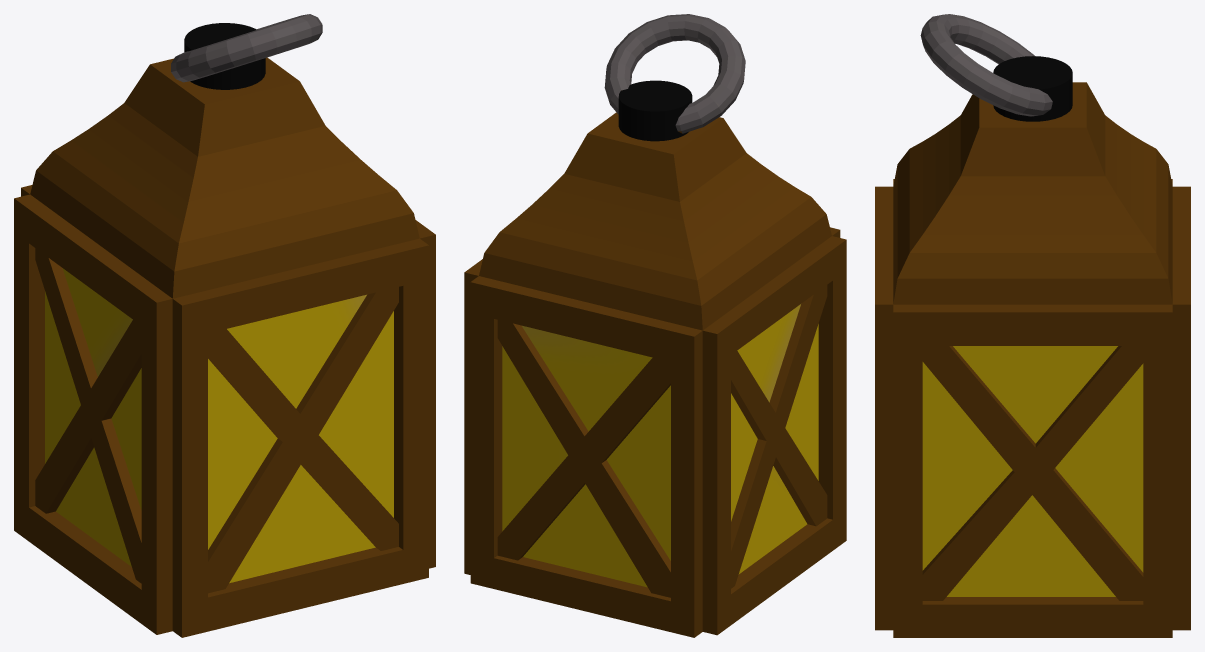
File: Lamp_color.fbx
The picture shows the model from 3 angles, left to right: view 1: azimuth 30°, elevation 25°; view 2: azimuth 150°, elevation 25°; view 3: azimuth 270°, elevation 25°; orthographic projection. The views are drawn at different scales.
Parts seen in each view (by area): view 1: Cube; view 2: Cube; view 3: Cube.
Part boxes in pixels (left/top/right/bottom): Cube: left=14, top=14, right=435, bottom=637; Cube: left=464, top=14, right=846, bottom=637; Cube: left=875, top=14, right=1190, bottom=637.
Bounding box in the file's own units: 226 × 432 × 226.
Materials: 1 (1 with a texture image).
